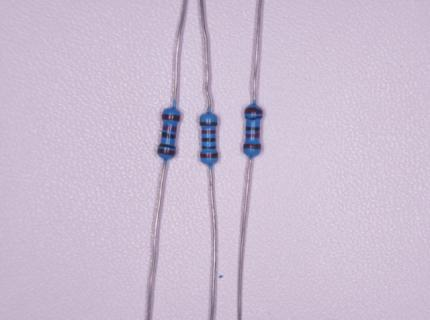Black band: (161, 132, 176, 139), (159, 143, 176, 149), (202, 137, 216, 142), (245, 116, 261, 120), (245, 127, 260, 131), (202, 146, 216, 149)
Brown band: (157, 148, 176, 156), (162, 113, 180, 121), (243, 143, 262, 150), (245, 108, 263, 114), (200, 121, 218, 126), (201, 153, 218, 158)
Red band: (162, 125, 177, 131), (201, 129, 216, 135), (246, 133, 260, 138)
